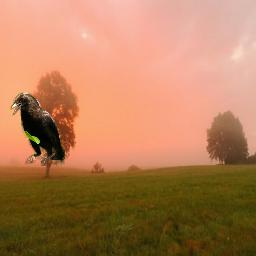Crow: (10, 92, 65, 166)
